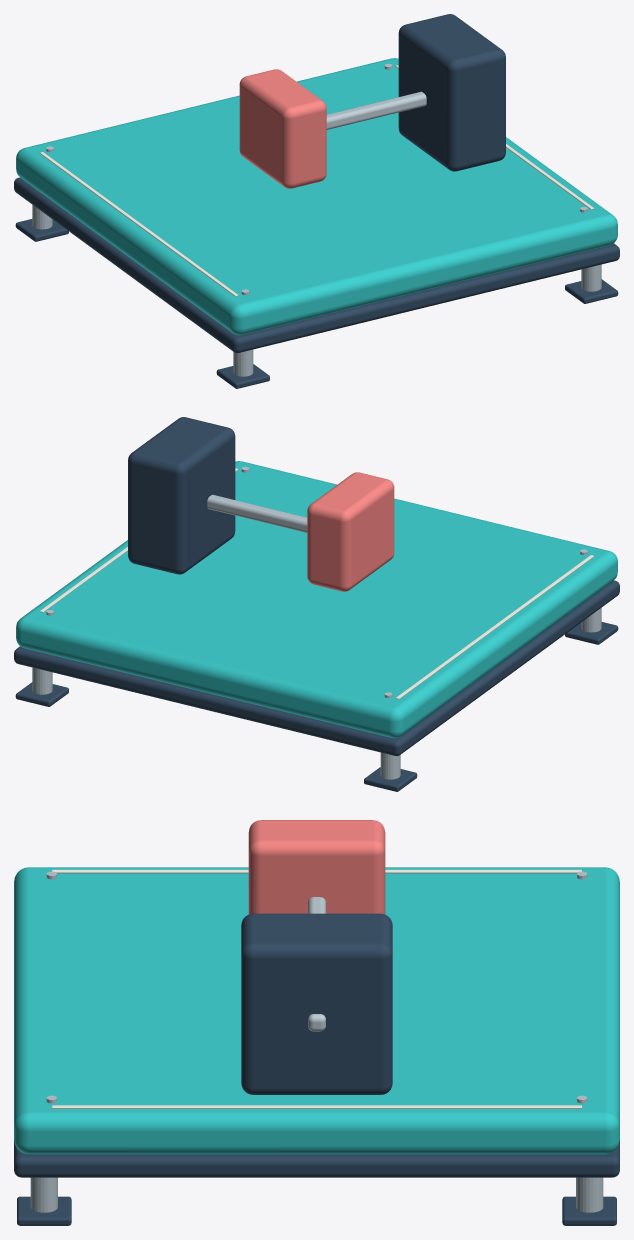
The model's file is party-obstacle-course-party-obstacle-course-piston-bum-437544d6__28936.glb.
3 renders of one model, top to bottom at view 1: azimuth 30°, elevation 25°; view 2: azimuth 150°, elevation 25°; view 3: azimuth 270°, elevation 25°, orthographic. The views are drawn at different scales.
Parts seen in each view (by area): view 1: party-obstacle-course-piston-bumper, head/coral, head/steel; view 2: party-obstacle-course-piston-bumper, head/coral, head/steel; view 3: party-obstacle-course-piston-bumper, head/coral, head/steel.
Part boxes in pixels (x1=…): party-obstacle-course-piston-bumper: x1=14, y1=14, x2=619, y2=388; head/coral: x1=239, y1=69, x2=326, y2=188; head/steel: x1=326, y1=91, x2=426, y2=129; party-obstacle-course-piston-bumper: x1=14, y1=417, x2=619, y2=791; head/coral: x1=307, y1=472, x2=394, y2=591; head/steel: x1=207, y1=494, x2=307, y2=532; party-obstacle-course-piston-bumper: x1=14, y1=867, x2=619, y2=1225; head/coral: x1=248, y1=820, x2=385, y2=914; head/steel: x1=308, y1=897, x2=325, y2=1031.
Size of the model in its own units: 4 by 1.9 by 4.
